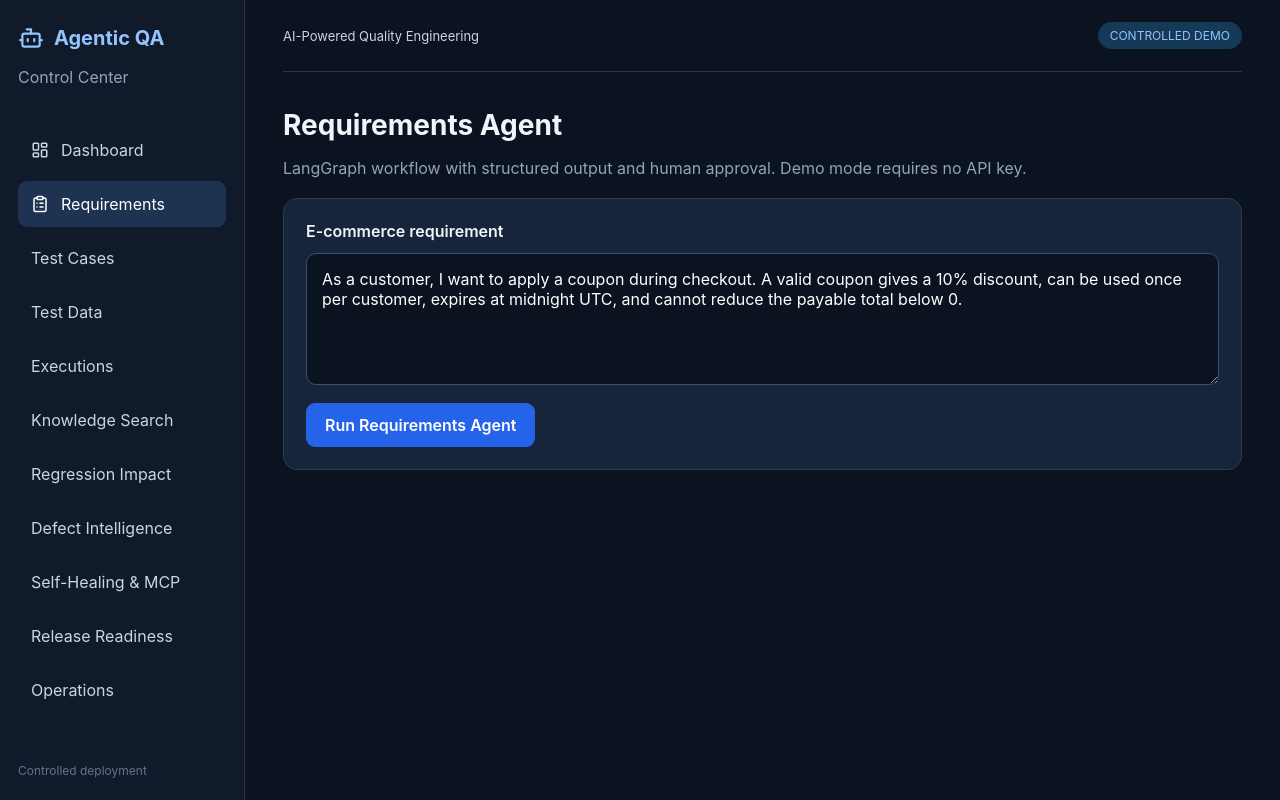
Test: agent failure permits retry
Click the button "Run Requirements Agent" at (421, 425), box [306,403,536,447]
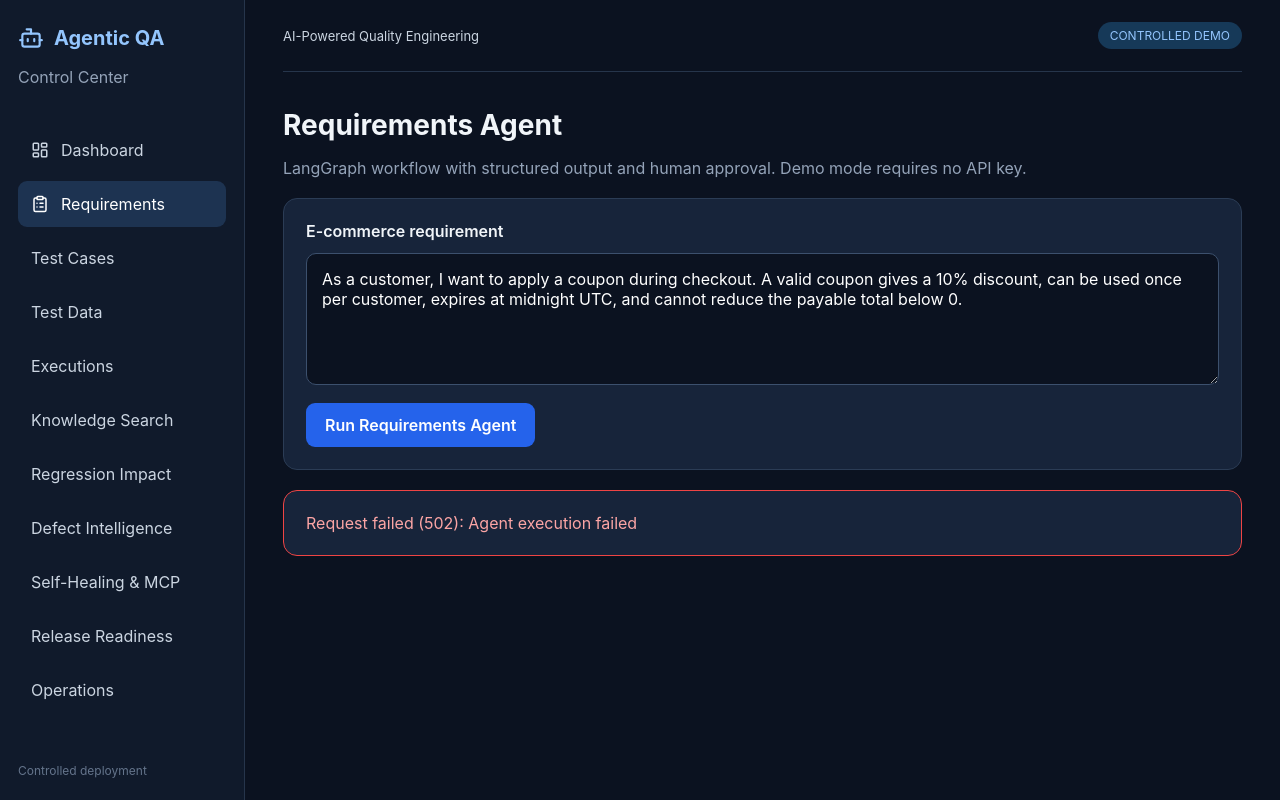
Now the message shows "502", box [306,513,637,533]
